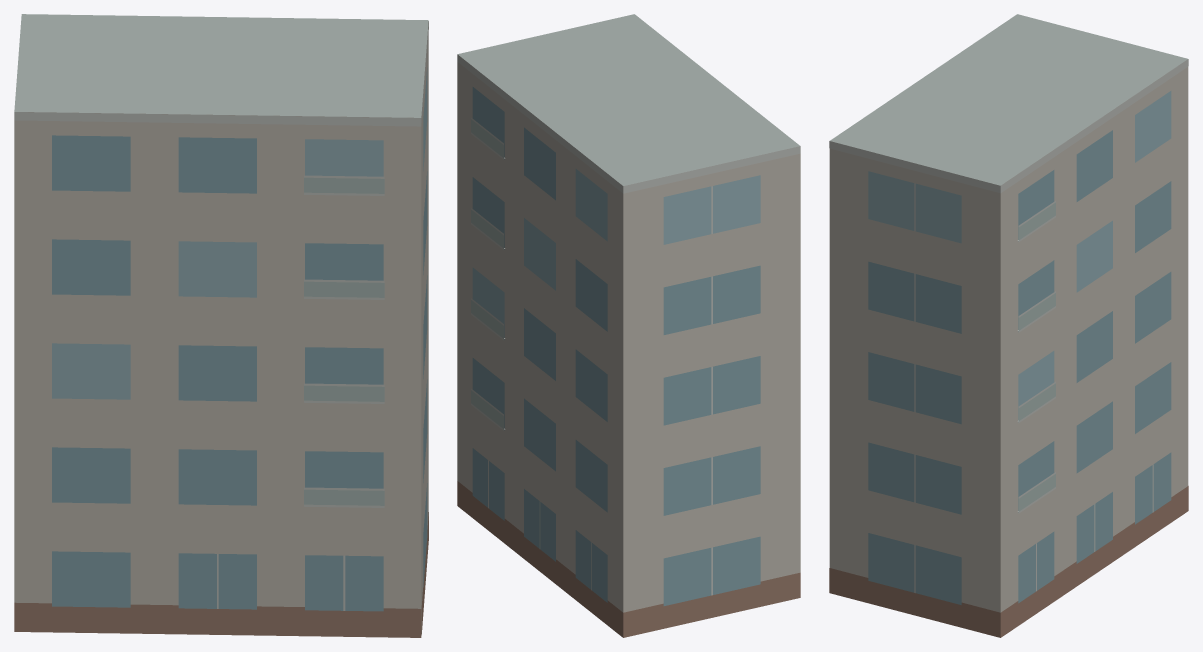
Rendered from survey-upis-32909004.glb.
The picture shows the model from 3 angles, left to right: view 1: azimuth 30°, elevation 25°; view 2: azimuth 150°, elevation 25°; view 3: azimuth 270°, elevation 25°; orthographic projection. The views are drawn at different scales.
Visible parts, largest first — view 1: survey-upis-32909004.tmp; view 2: survey-upis-32909004.tmp; view 3: survey-upis-32909004.tmp.
Boxes of the visible parts, x1,y1,x2,y2 form: survey-upis-32909004.tmp: (14,14,428,637); survey-upis-32909004.tmp: (457,14,800,637); survey-upis-32909004.tmp: (829,14,1188,637).
Bounding box in the file's own units: 11.94 × 14.65 × 10.55.
